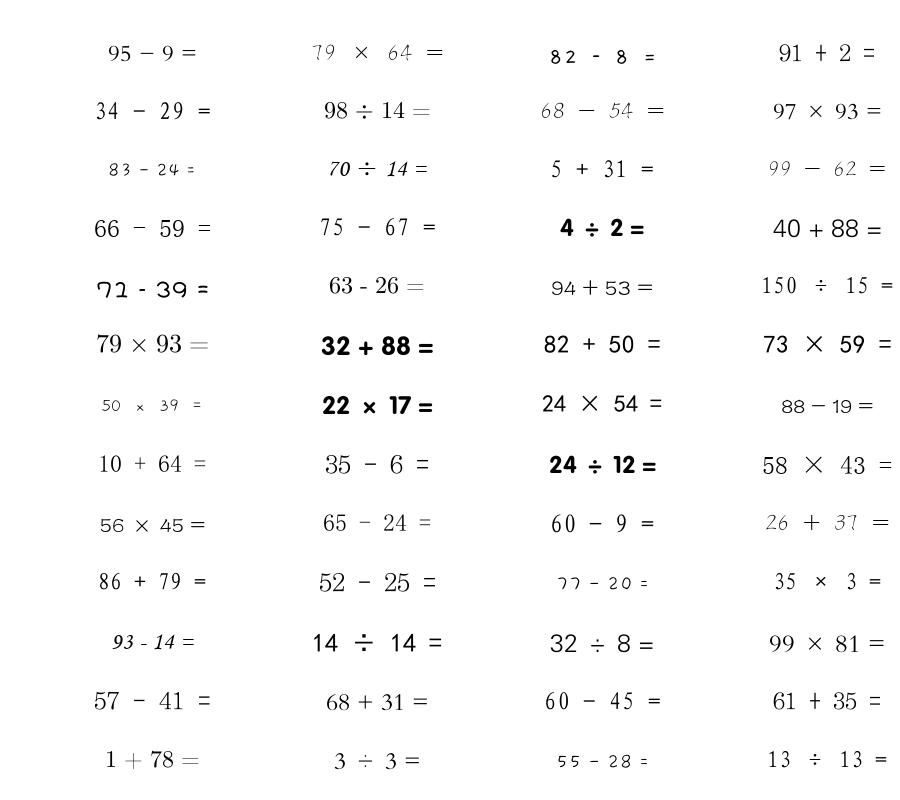MQ: (312, 633, 442, 652), (761, 276, 893, 294), (762, 456, 892, 474), (319, 572, 436, 592), (763, 335, 892, 353), (311, 44, 444, 61), (321, 336, 434, 356), (544, 335, 661, 354), (94, 691, 211, 710), (322, 395, 433, 415), (767, 750, 887, 768), (96, 334, 209, 353), (540, 102, 665, 119), (765, 514, 890, 531), (94, 102, 211, 120), (319, 218, 436, 236), (544, 692, 661, 710), (769, 635, 885, 653), (773, 219, 882, 238), (542, 395, 662, 412), (549, 455, 656, 474), (94, 220, 211, 237), (325, 455, 429, 474), (550, 514, 654, 533), (550, 634, 654, 653), (98, 572, 206, 590), (773, 572, 881, 590), (773, 692, 881, 710), (324, 101, 431, 119), (96, 281, 209, 298), (550, 160, 654, 178), (773, 103, 882, 120), (98, 455, 206, 472), (323, 514, 431, 531), (105, 750, 200, 769), (768, 161, 886, 176), (326, 694, 429, 711), (551, 279, 653, 296), (779, 44, 875, 62), (329, 276, 425, 294), (548, 49, 657, 64), (327, 161, 427, 177), (560, 218, 644, 237), (100, 518, 205, 533), (108, 45, 197, 62), (334, 753, 421, 770), (556, 754, 649, 769), (111, 634, 194, 650), (101, 399, 203, 412), (556, 577, 649, 591), (781, 399, 873, 413), (108, 163, 196, 177)
